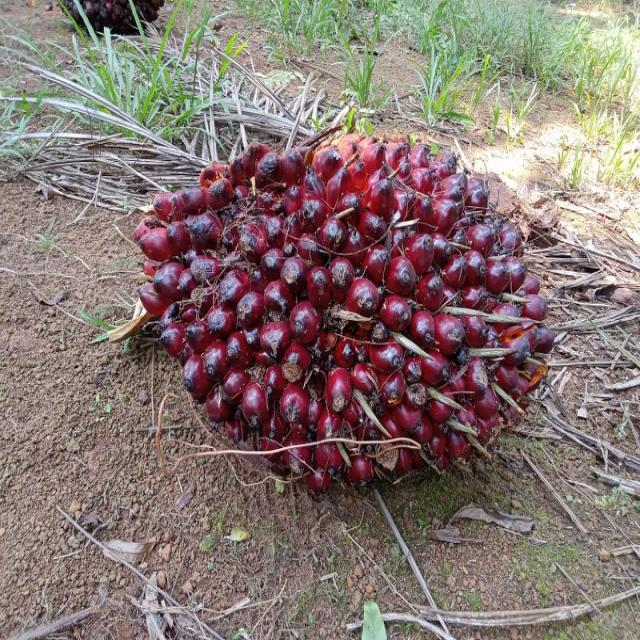fraksi 1: (124, 100, 583, 534)
